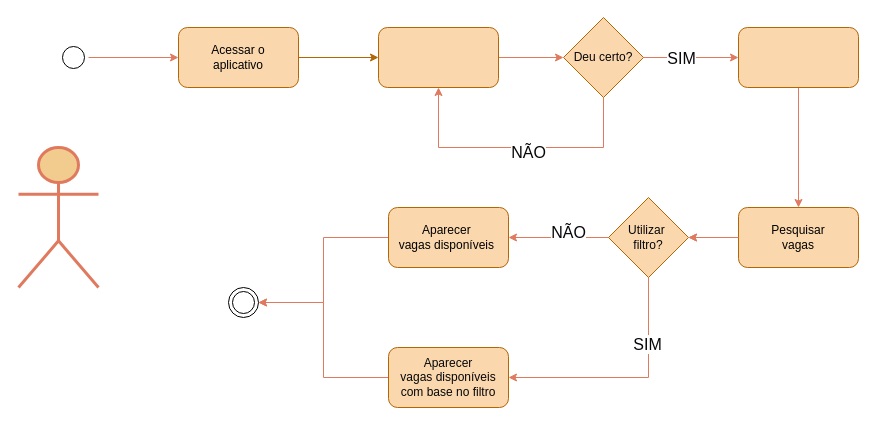
The diagram is 876 pixels wide and 425 high, and some of its shapes have lost their labels. Each missing label, with the box of its shape:
CLIENTE: (16, 146, 100, 288)
Fazer login: (378, 26, 498, 88)
Tela principal do aplicativo: (738, 26, 858, 88)
